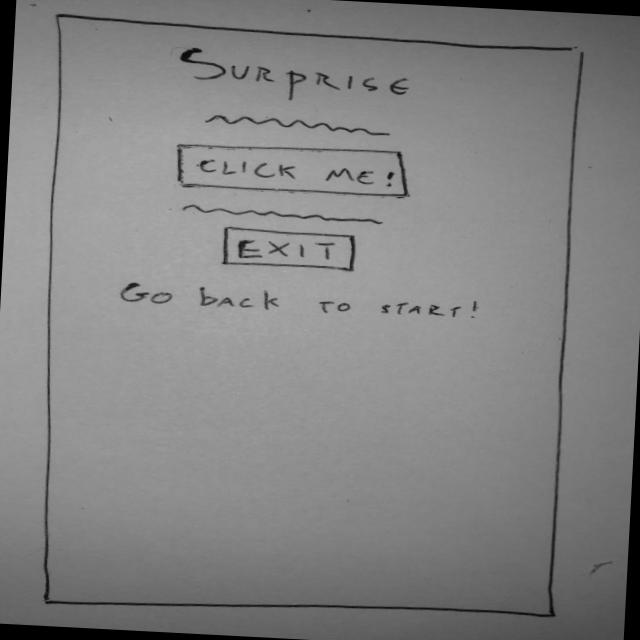button: (169, 138, 424, 202), (223, 225, 363, 276)
container: (23, 12, 596, 634)
label: (113, 277, 496, 328), (162, 41, 437, 110)
text: (187, 108, 417, 142), (181, 202, 399, 233)
